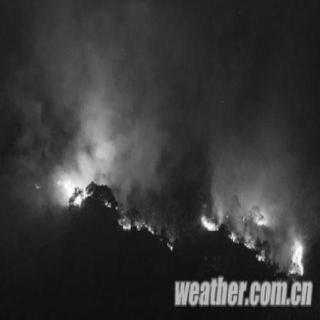Fire: (204, 204, 306, 274), (121, 203, 176, 249)
Smoke: (147, 22, 217, 224)
